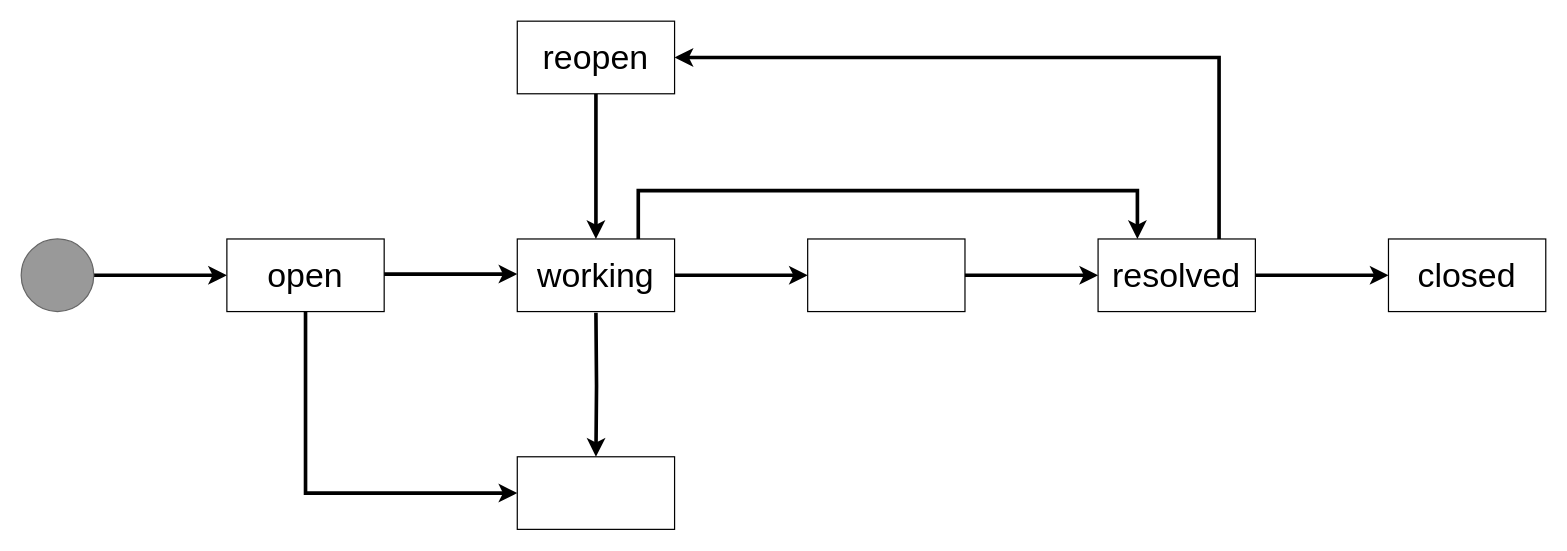
The diagram is 1567 pixels wide and 551 high, and some of its shapes have lost their labels. The shapes that lost their labels are listed below. From the top down, each one's centre as x and y in pixels, then its label:
At [885,275]: "testing".
At [595,492]: "rejected".
